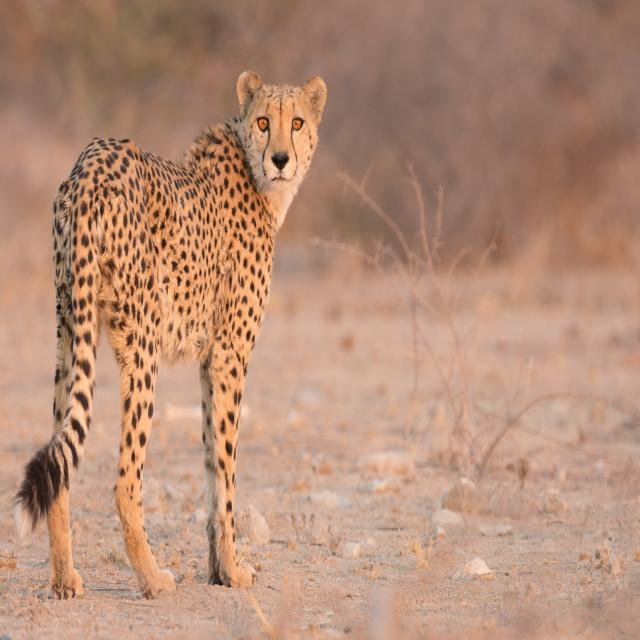Cheetah: (18, 57, 334, 610)
